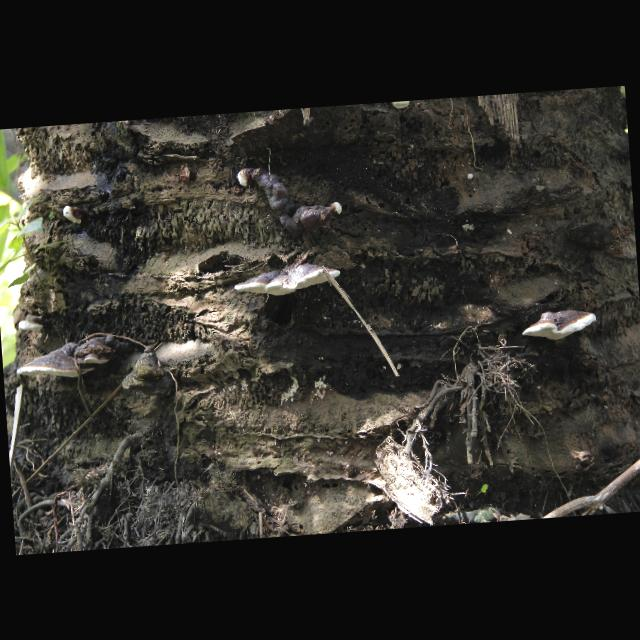ganoderma: (253, 162, 333, 237), (233, 260, 344, 300), (15, 341, 96, 383), (520, 309, 599, 345), (74, 334, 132, 367), (19, 315, 51, 334)
primordium: (63, 204, 85, 226), (237, 168, 255, 189), (331, 201, 344, 217), (391, 102, 413, 111), (466, 172, 475, 181)
